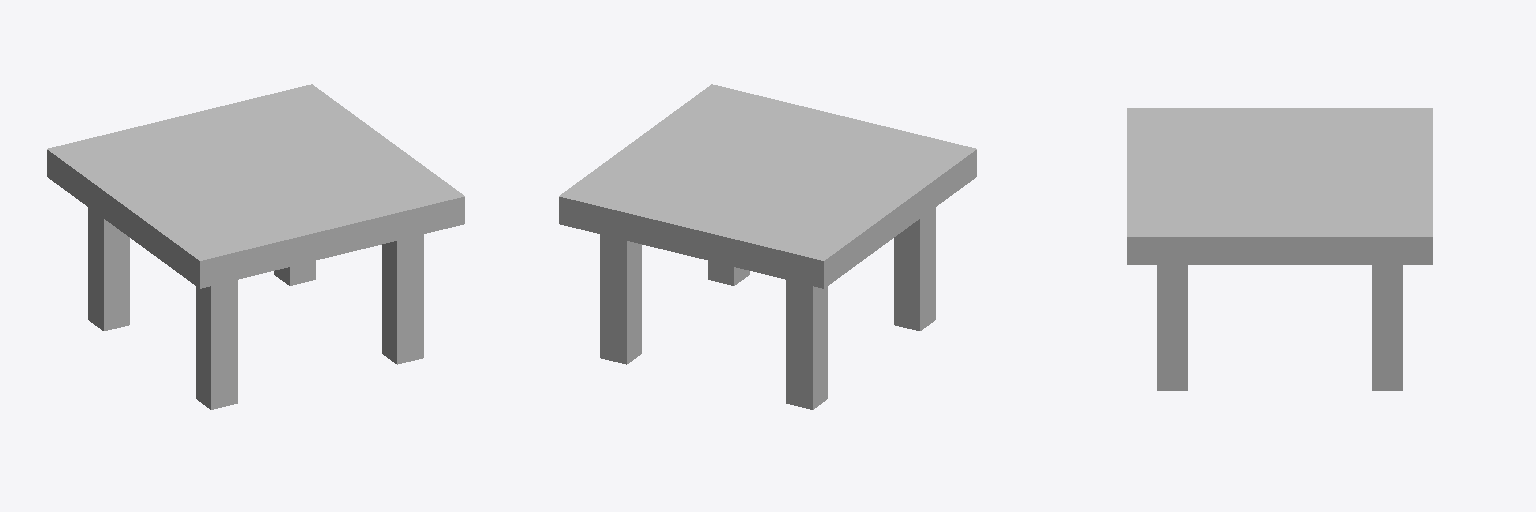
File: table.obj
The picture shows the model from 3 angles: view 1: azimuth 30°, elevation 25°; view 2: azimuth 150°, elevation 25°; view 3: azimuth 270°, elevation 25°; orthographic projection.
Visible parts, largest first — view 1: object 1; view 2: object 1; view 3: object 1.
Part boxes in pixels (left/top/right/bottom): object 1: left=47, top=84, right=464, bottom=409; object 1: left=559, top=84, right=976, bottom=409; object 1: left=1127, top=108, right=1432, bottom=390.
Bounding box in the file's own units: 1 × 0.6 × 1.